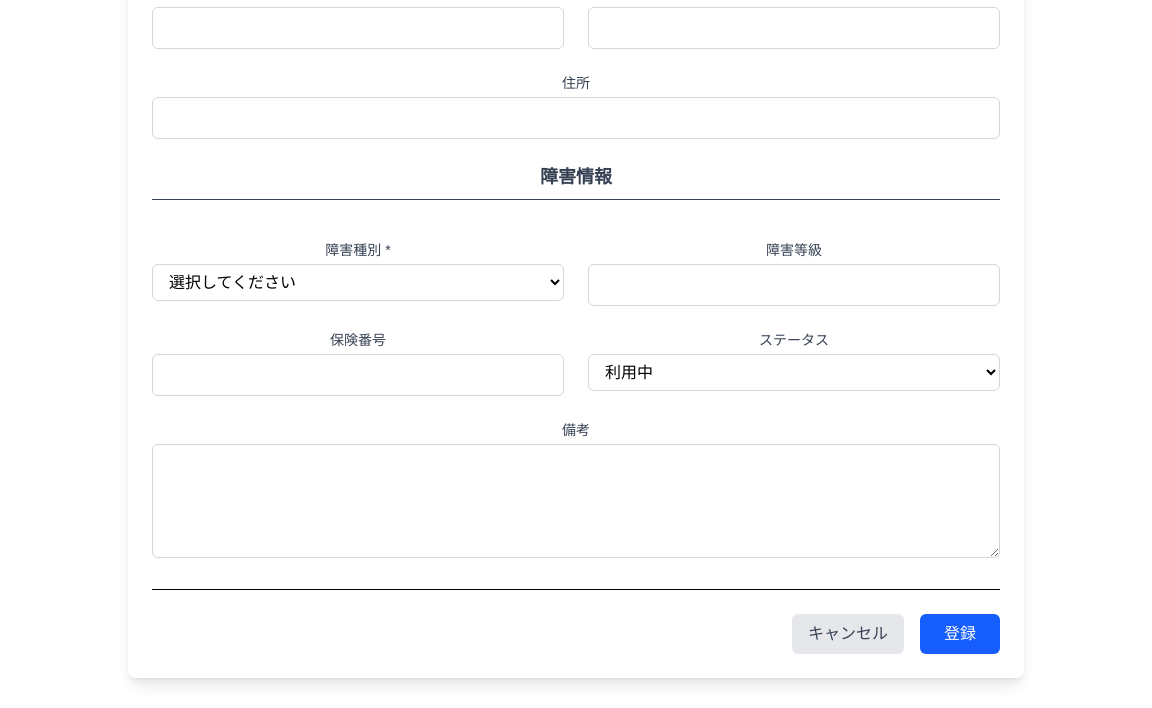
Test: ClientForm › アクセシビリティ › エラーメッセージにrole="alert"が設定されている
The width and height of the screenshot is (1152, 708).
(page scrolled)
送信ボタンをクリックしてバリデーションエラーを発生させる
Click the button "登録" at (960, 634), box [920, 614, 1000, 654]
(page scrolled)
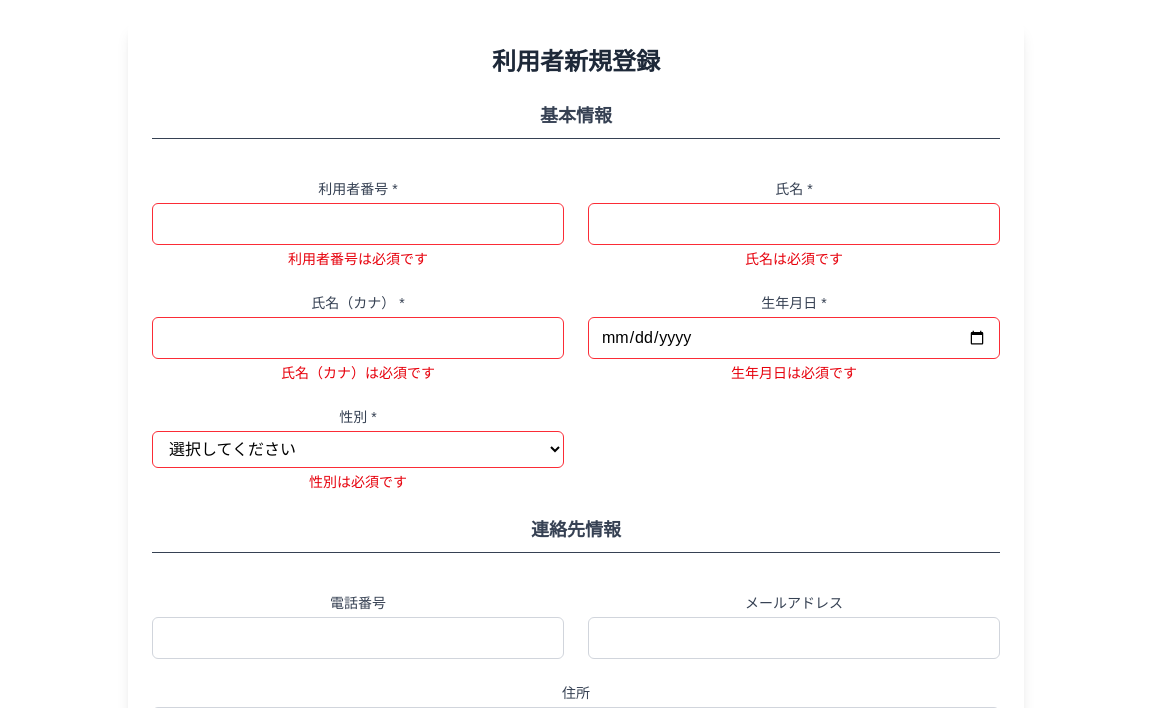
Now the message "利用者番号は必須です" is shown, box [288, 251, 428, 267]
